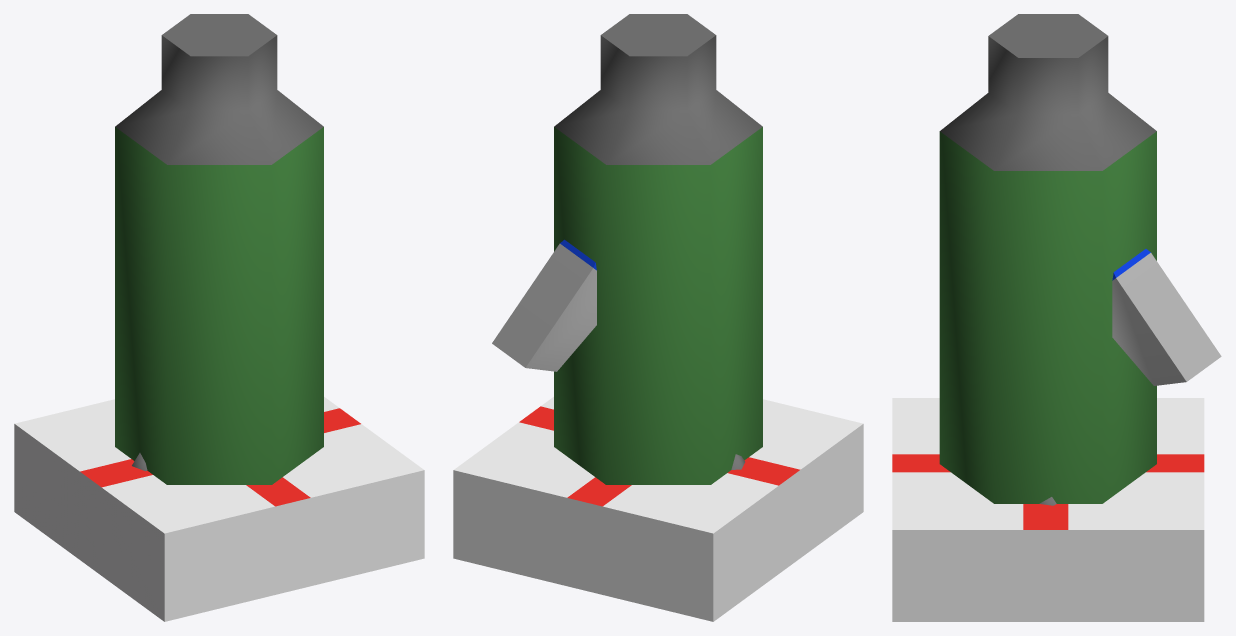
The model's file is reItems.glb.
The picture shows the model from 3 angles, left to right: view 1: azimuth 30°, elevation 25°; view 2: azimuth 150°, elevation 25°; view 3: azimuth 270°, elevation 25°; orthographic projection. The views are drawn at different scales.
Visible parts, largest first — view 1: Spray, HealthKit; view 2: Spray, HealthKit, Grenade; view 3: Spray, HealthKit, Grenade.
Boxes of the visible parts, x1,y1,x2,y2 form: Spray: (115,14,323,484); HealthKit: (14,397,424,621); Spray: (554,14,762,484); HealthKit: (453,397,863,621); Grenade: (492,239,596,371); Spray: (939,14,1156,503); HealthKit: (892,398,1204,621); Grenade: (1112,249,1221,385).
Size of the model in its own units: 0.1788 by 0.3298 by 0.1886.
